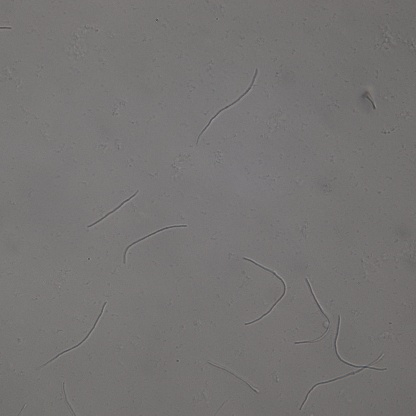Sensitive: (300, 315, 387, 408), (37, 301, 106, 369), (196, 70, 258, 145), (241, 256, 287, 325), (122, 224, 187, 263), (296, 279, 331, 346), (88, 190, 140, 227), (210, 361, 259, 391)
